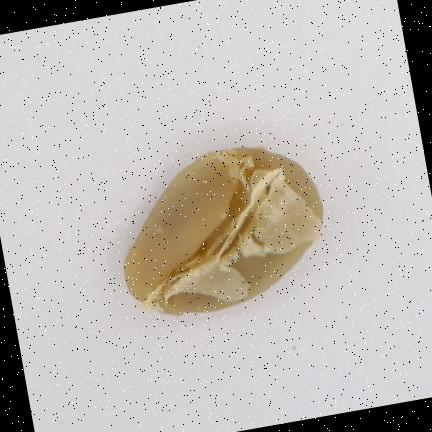parchment: (125, 147, 323, 314)
